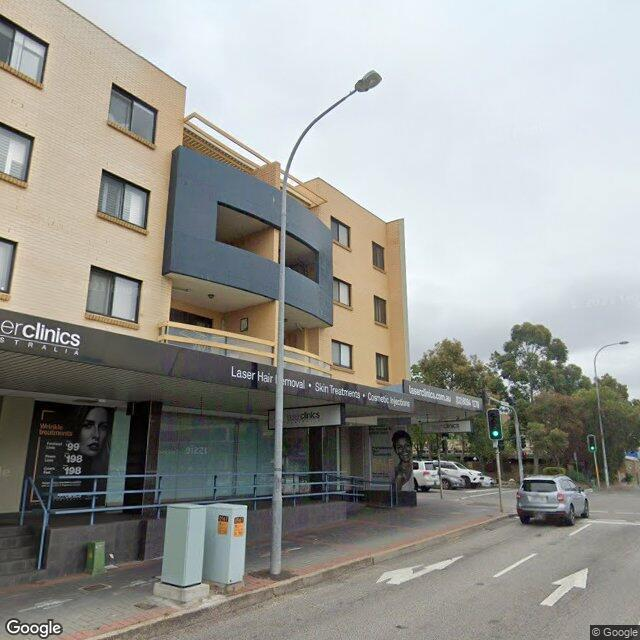steel-pole: (270, 197, 286, 575), (594, 361, 610, 488), (491, 407, 504, 513), (513, 409, 524, 485), (590, 433, 602, 489)
streetlight: (281, 69, 384, 203), (593, 340, 630, 362)
traffic-light: (486, 409, 504, 440), (586, 434, 598, 452), (482, 389, 489, 406)
